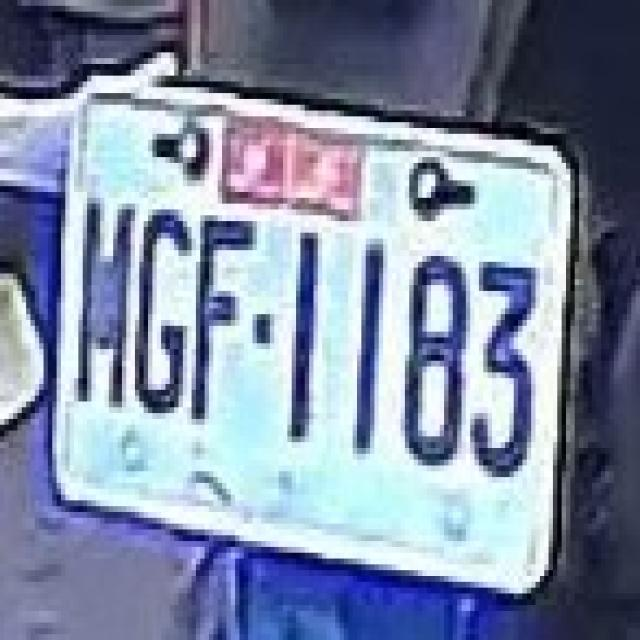license-plate: (46, 54, 571, 597)
